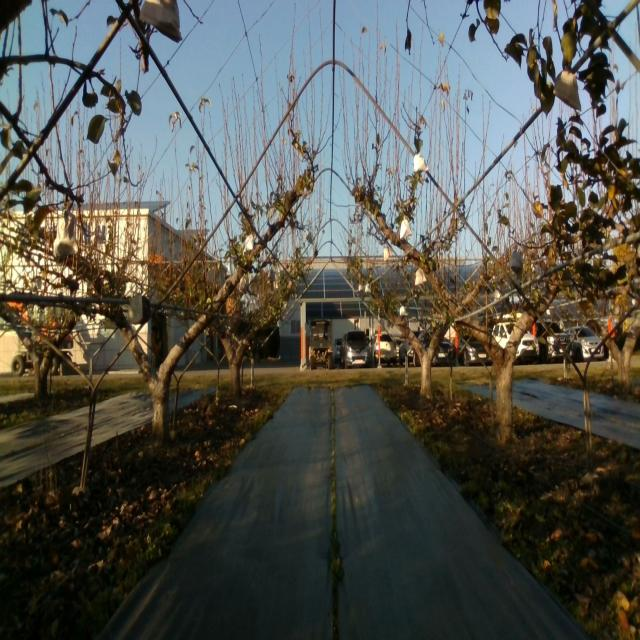pearbags: (139, 0, 183, 44), (52, 214, 78, 260), (554, 70, 582, 111), (509, 245, 524, 280), (413, 149, 428, 173), (400, 215, 412, 240)
